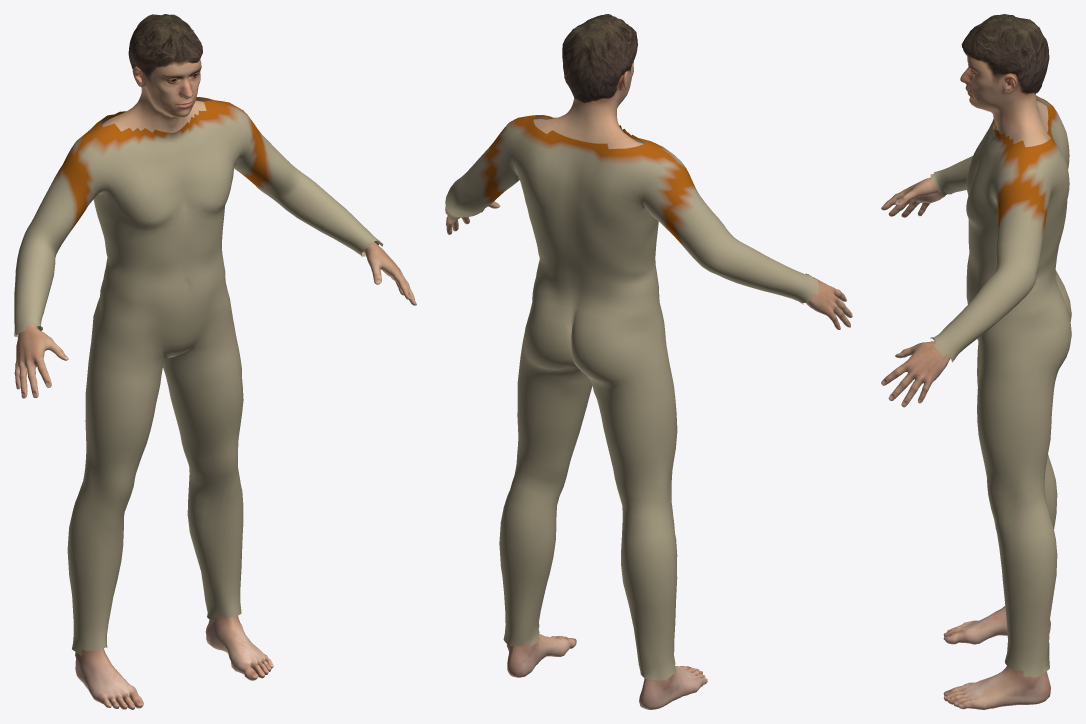
Rendered from crew_VEGA.glb.
3 views of the same model, side by side, from view 1: azimuth 30°, elevation 25°; view 2: azimuth 150°, elevation 25°; view 3: azimuth 270°, elevation 25° (orthographic).
Visible parts, largest first — view 1: VEGA_uniform, VEGA_skin, VEGA_short02; view 2: VEGA_uniform, VEGA_skin, VEGA_short02; view 3: VEGA_uniform, VEGA_skin, VEGA_short02.
Part boxes in pixels (x1,y1,x2,y2): VEGA_uniform: [14, 97, 383, 655]; VEGA_skin: [14, 59, 416, 709]; VEGA_short02: [128, 14, 202, 80]; VEGA_uniform: [445, 115, 818, 680]; VEGA_skin: [446, 61, 852, 709]; VEGA_short02: [562, 14, 637, 102]; VEGA_uniform: [930, 95, 1071, 677]; VEGA_skin: [881, 55, 1050, 709]; VEGA_short02: [961, 14, 1049, 94].
Bounding box in the file's own units: 1.19 × 1.9 × 0.504.
13 materials, 12 textured.
